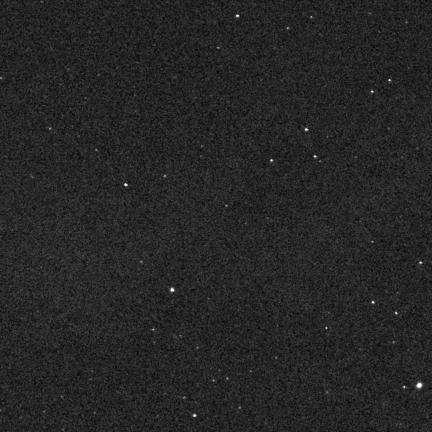blob: (171, 287, 175, 293), (124, 184, 128, 187), (236, 15, 239, 18)
